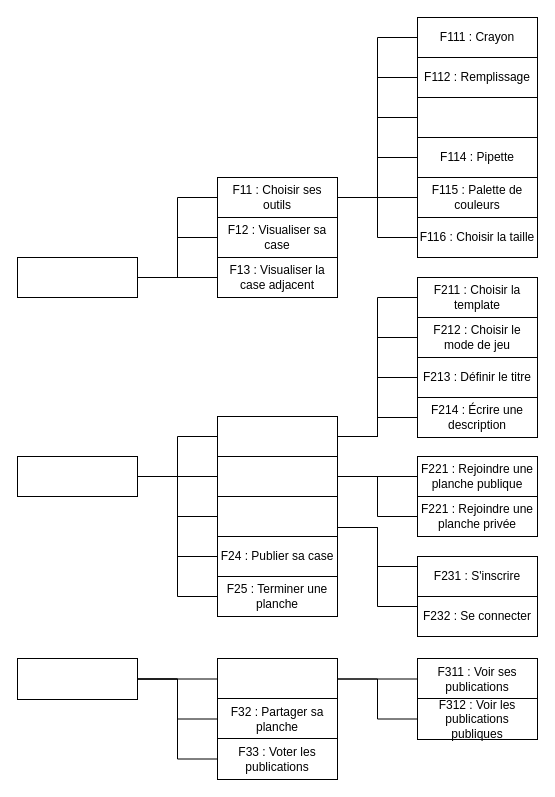
Some shapes in this 555 by 797 pixel diagram are drawn without their labels. Here are the shapes that lost their labels. From the top down, the box of each, then its label:
(416, 96, 538, 138): F113 : Gomme
(16, 256, 138, 298): F1 : Dessiner
(216, 416, 338, 456): F21 : Initier une planche
(16, 456, 138, 496): F2 : Collaborer
(216, 456, 338, 496): F22 : Rejoindre une planche
(216, 496, 338, 536): F23 : S'inscrire et se connecter
(16, 658, 138, 700): F3 : Partager
(216, 658, 338, 700): F31 : Voir les publications
